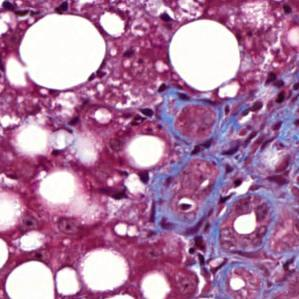steatosis: (23, 11, 107, 94), (170, 19, 243, 93)
